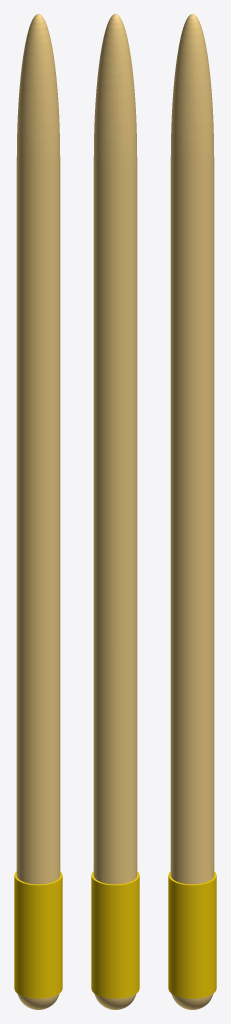
File: mechhh22.fbx
3 renders of one model, left to right at view 1: azimuth 90°, elevation 25°; view 2: azimuth 210°, elevation 25°; view 3: azimuth 270°, elevation 25°, orthographic.
Parts seen in each view (by area): view 1: Sphere.004; view 2: Sphere.004; view 3: Sphere.004.
Part boxes in pixels (x1,y1,x2,y2): Sphere.004: (14,14,62,1009); Sphere.004: (91,14,139,1009); Sphere.004: (168,14,216,1009).
Size of the model in its own units: 47.41 by 1082 by 47.41.
